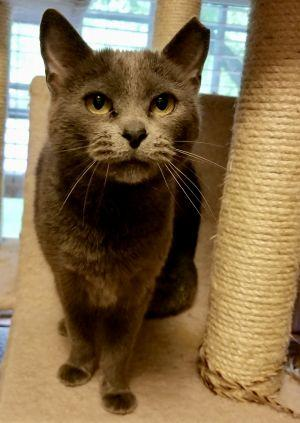rblue: (28, 1, 220, 195)
